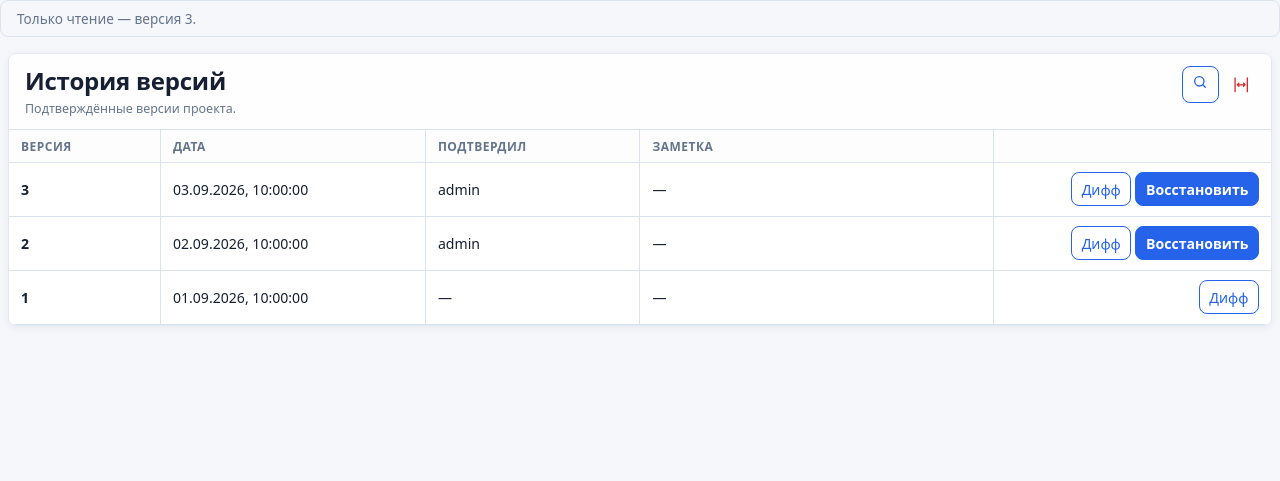
Scenario: HistoryPage › shows the diff against the previous version
The image size is (1280, 481).
Check: the text "3" is shown, box x1=21 y1=180 x2=29 y2=199
Click the button titled "Дифф версии 3" in the row of "03.09.2026, 10:00:00" at (1101,189), box x1=1071 y1=172 x2=1131 y2=206
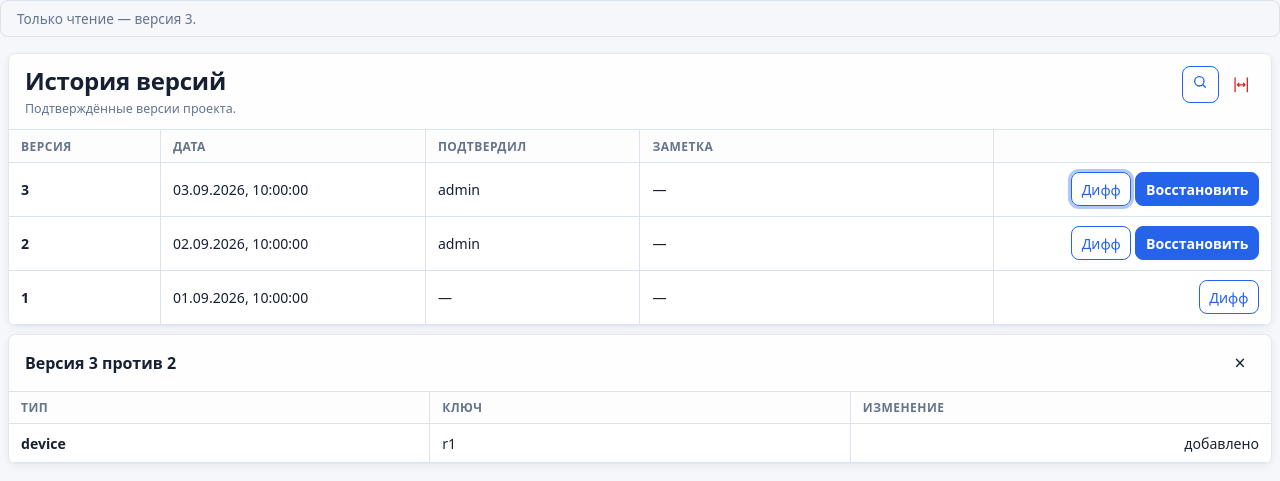
Check: the text "добавлено" is shown, box x1=850 y1=423 x2=1271 y2=463
Check: the text "r1" is shown, box x1=430 y1=423 x2=850 y2=463
